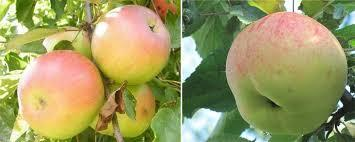Apple: (226, 11, 347, 133), (18, 50, 103, 139), (91, 5, 171, 84), (85, 77, 155, 137), (42, 26, 92, 69)
